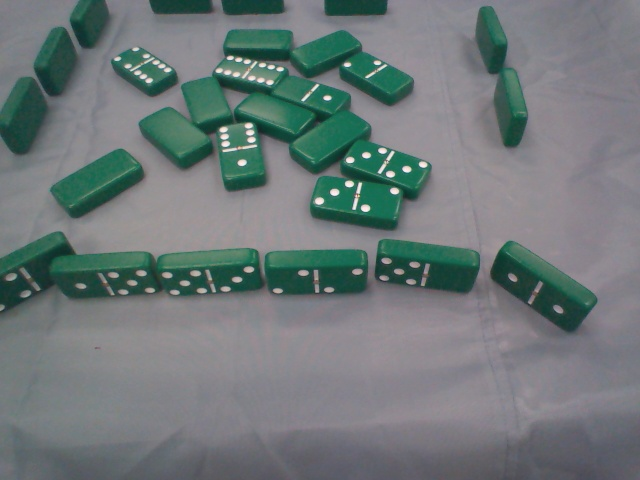A: (39, 152, 146, 214), (121, 97, 213, 164), (290, 104, 371, 173), (234, 85, 312, 143), (287, 26, 370, 76), (175, 73, 234, 125), (219, 25, 294, 60)
B: (341, 134, 436, 199), (312, 171, 409, 227), (213, 116, 277, 192), (337, 46, 417, 103), (205, 49, 289, 96), (106, 44, 177, 96)
C: (4, 78, 50, 154), (31, 26, 80, 94), (67, 1, 118, 43)
D: (458, 2, 518, 75), (485, 69, 534, 158)
E: (486, 239, 602, 340), (371, 235, 483, 298), (261, 249, 372, 299), (1, 238, 77, 311), (53, 251, 162, 301), (155, 249, 267, 296)
F: (150, 3, 220, 19), (222, 1, 285, 17), (323, 1, 386, 17)
